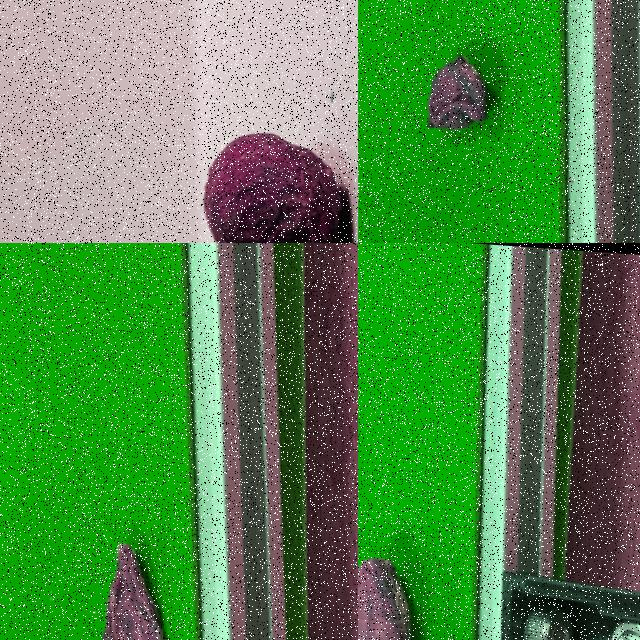Agglomerated_cocoabeans: (124, 82, 357, 242)
Fine_cocoabeans: (358, 426, 484, 639)
Flat_cocoabeans: (367, 0, 554, 209), (38, 475, 216, 639)
